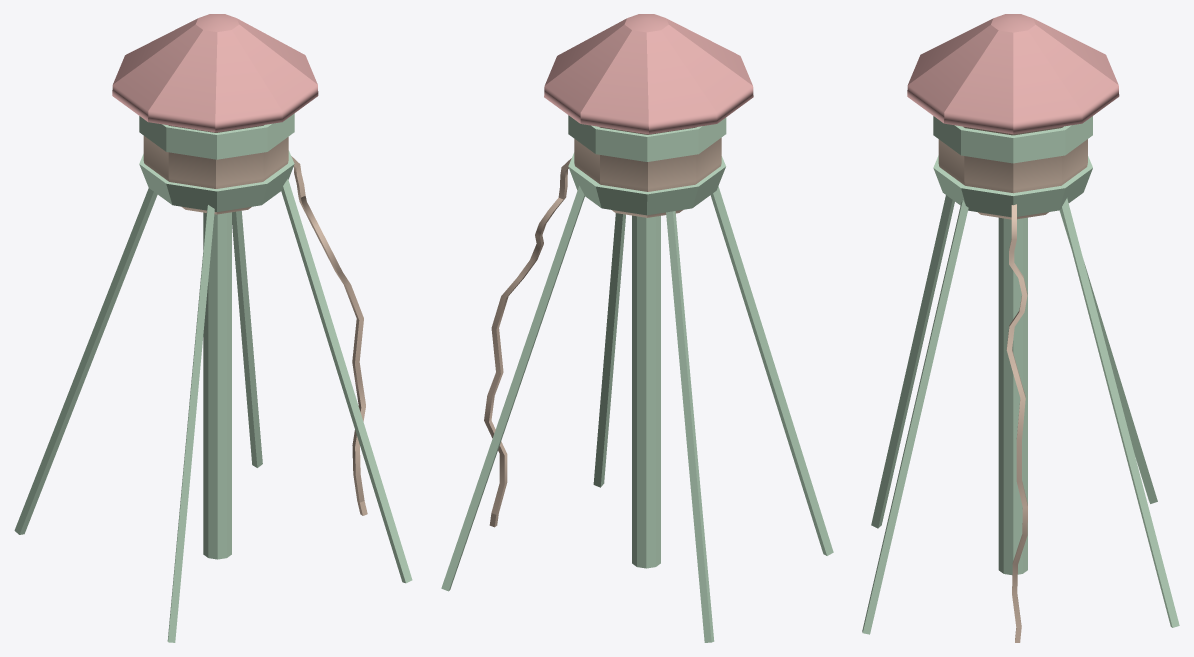
The model's file is watertowerTextured.fbx.
3 renders of one model, left to right at view 1: azimuth 30°, elevation 25°; view 2: azimuth 150°, elevation 25°; view 3: azimuth 270°, elevation 25°, orthographic. The views are drawn at different scales.
Visible parts, largest first — view 1: group17; view 2: group17; view 3: group17.
Part boxes in pixels (x1,y1,x2,y2): group17: (14,14,412,642); group17: (441,14,833,642); group17: (862,14,1179,642).
Bounding box in the file's own units: 28.84 × 52.76 × 26.9.
